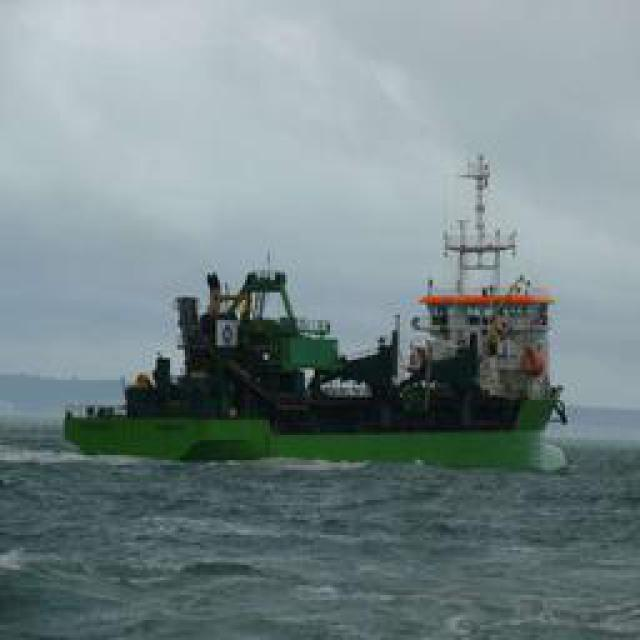Ship: (48, 148, 584, 482)
